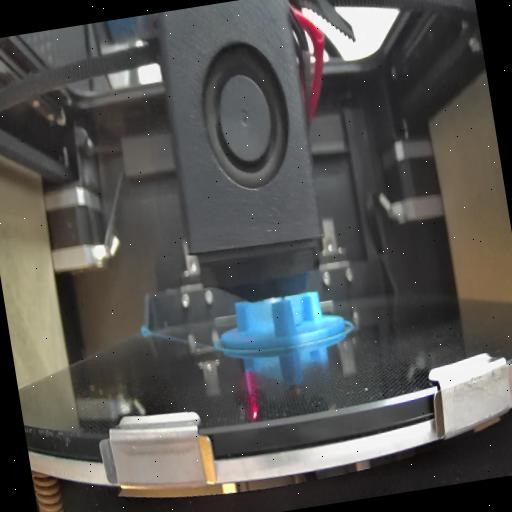stringing: (244, 300, 274, 340), (290, 294, 312, 334)
